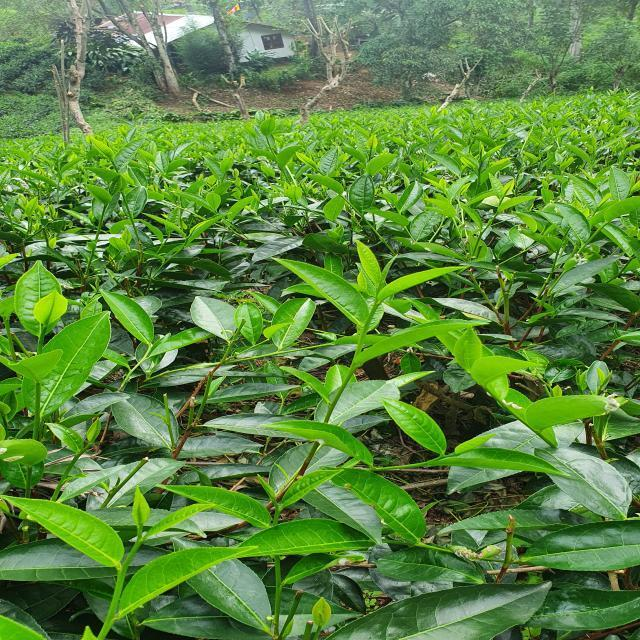Stem: (133, 538, 144, 547), (373, 302, 380, 309), (275, 508, 281, 514), (38, 340, 43, 346), (148, 346, 153, 351)
